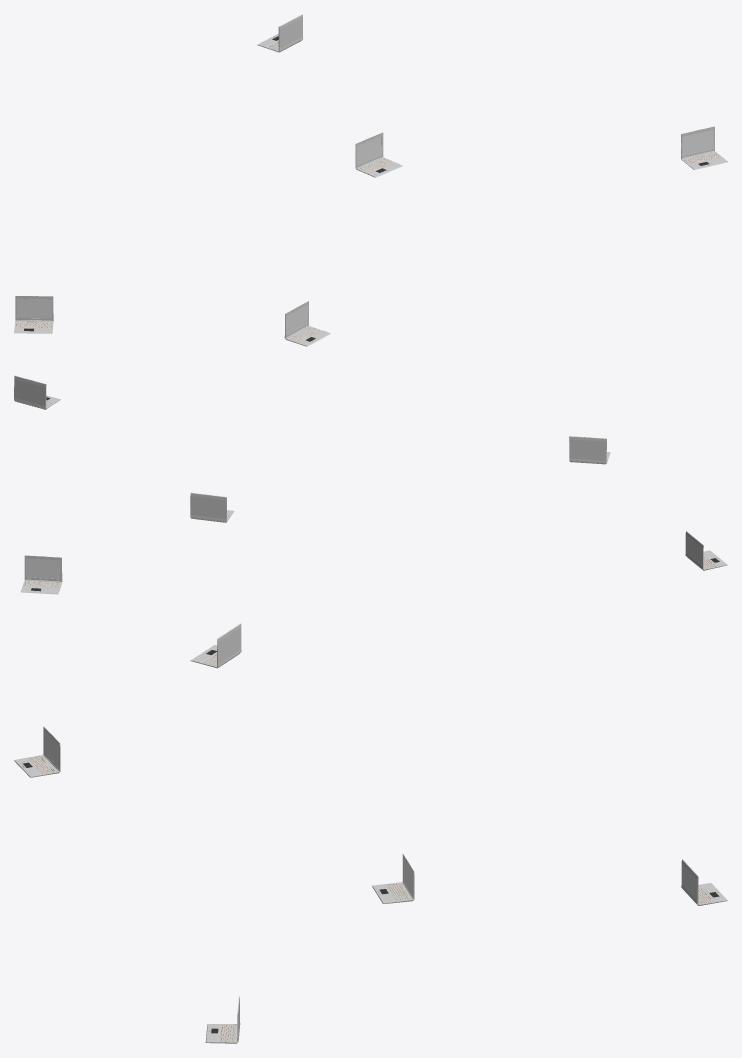
Rendered from Labtops.fbx.
The picture shows the model from 3 angles, top to bottom: view 1: azimuth 30°, elevation 25°; view 2: azimuth 150°, elevation 25°; view 3: azimuth 270°, elevation 25°; orthographic projection. The views are drawn at different scales.
Parts seen in each view (by area): view 1: Plane.001, Plane.002, Plane.003, Plane.005, Plane.004; view 2: Plane.004, Plane.005, Plane.003, Plane.002, Plane.001; view 3: Plane.005, Plane.001, Plane.003, Plane.004, Plane.002.
Part boxes in pixels (x1,y1,x2,y2): Plane.001: (14,296,53,333); Plane.002: (681,126,727,169); Plane.003: (355,132,402,177); Plane.005: (284,301,330,346); Plane.004: (257,14,303,52); Plane.004: (20,555,62,594); Plane.005: (569,436,610,464); Plane.003: (190,492,233,522); Plane.002: (14,375,60,409); Plane.001: (685,531,727,570); Plane.005: (14,726,60,777); Plane.001: (190,623,241,668); Plane.003: (372,854,414,903); Plane.004: (681,859,727,905); Plane.002: (205,995,240,1043).
Size of the model in its own units: 773 by 45.14 by 586.
